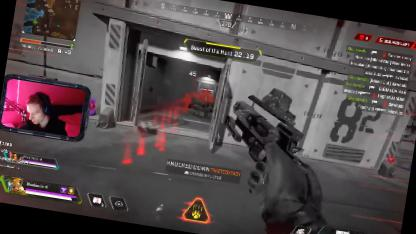Target: (178, 91, 192, 113)
